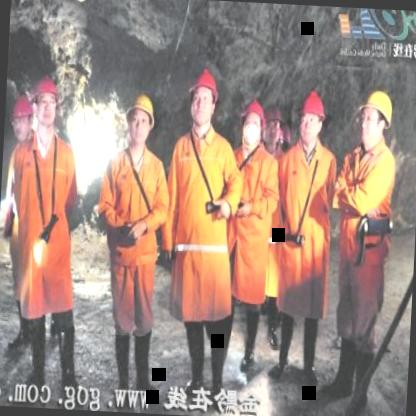helmet: (356, 82, 396, 152), (186, 62, 220, 134), (124, 85, 158, 152), (32, 70, 62, 130), (298, 84, 326, 148), (240, 95, 268, 158), (9, 92, 36, 140), (256, 107, 283, 152)
